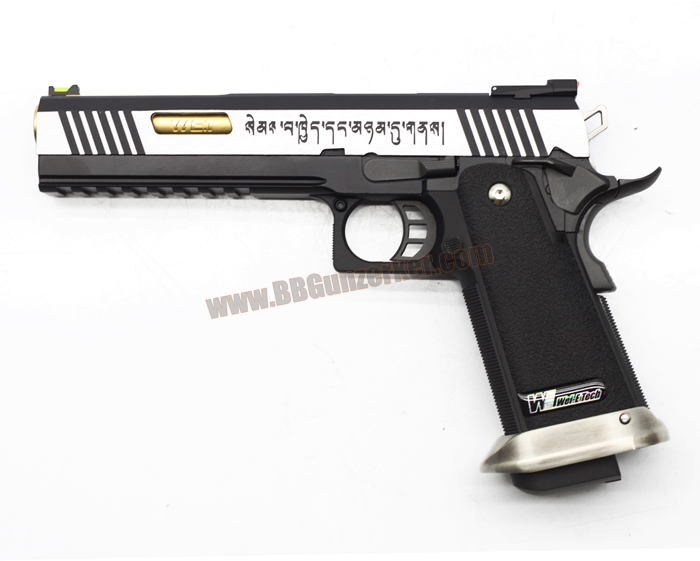gun: (22, 78, 678, 501)
